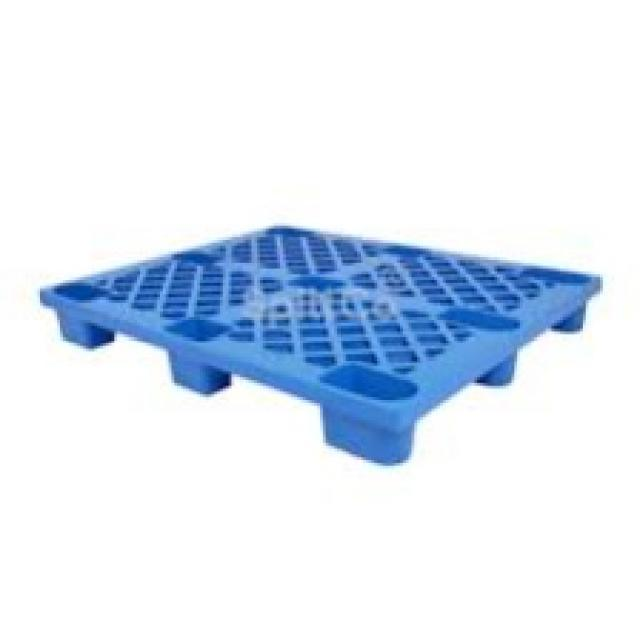plastic: (26, 223, 623, 468)
